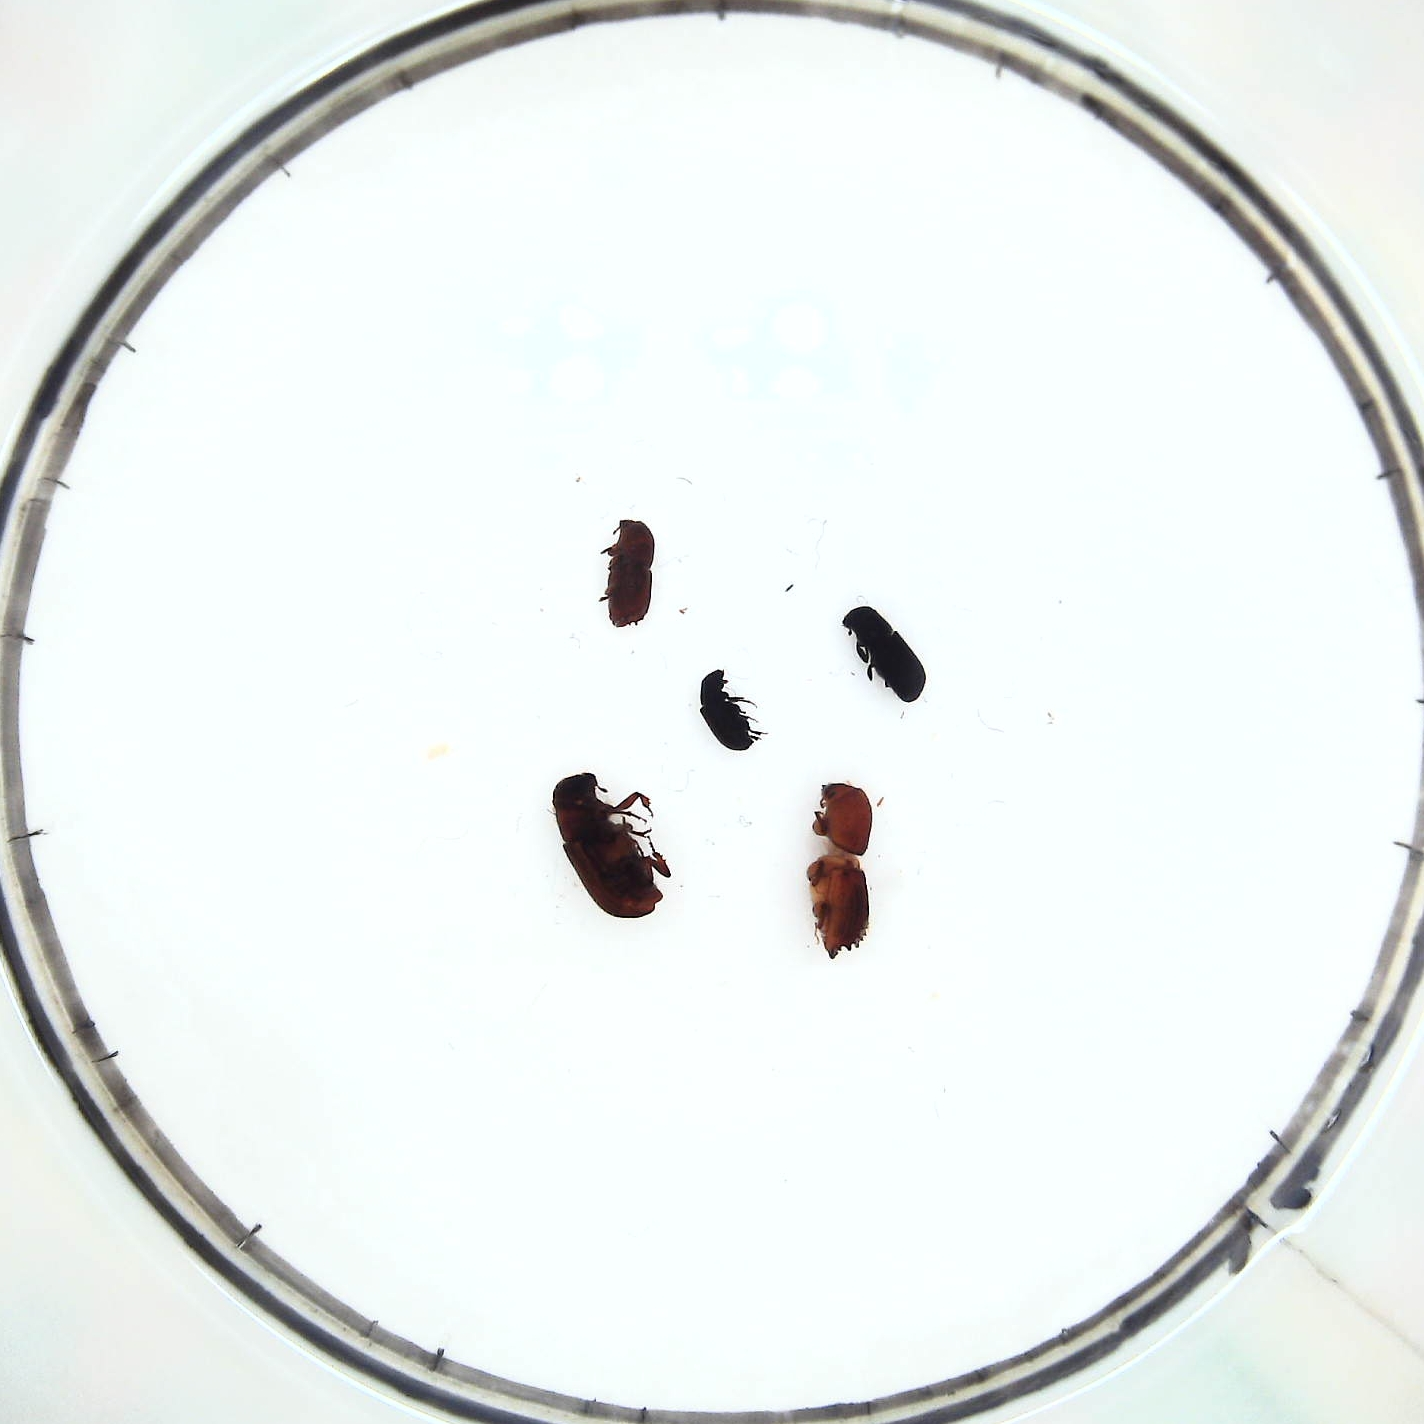Boerner: (806, 777, 878, 961)
Leconte: (552, 771, 670, 921)
Linnaeus: (604, 519, 661, 630)
armandi: (842, 602, 931, 705)
coleoptera: (696, 666, 772, 758)
